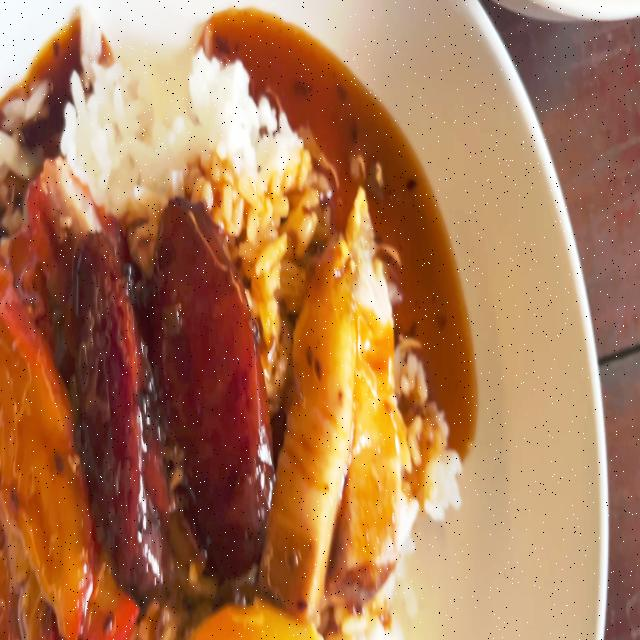chainese_sausage: (69, 200, 268, 577), (148, 192, 270, 556), (73, 230, 162, 576)
crispy_pork: (272, 198, 402, 601), (274, 248, 349, 591), (344, 205, 388, 571)
red_pork: (0, 276, 90, 640), (36, 166, 105, 303)
red_pork_and_crispy_pork: (0, 9, 458, 640)
rice: (69, 30, 360, 222)
